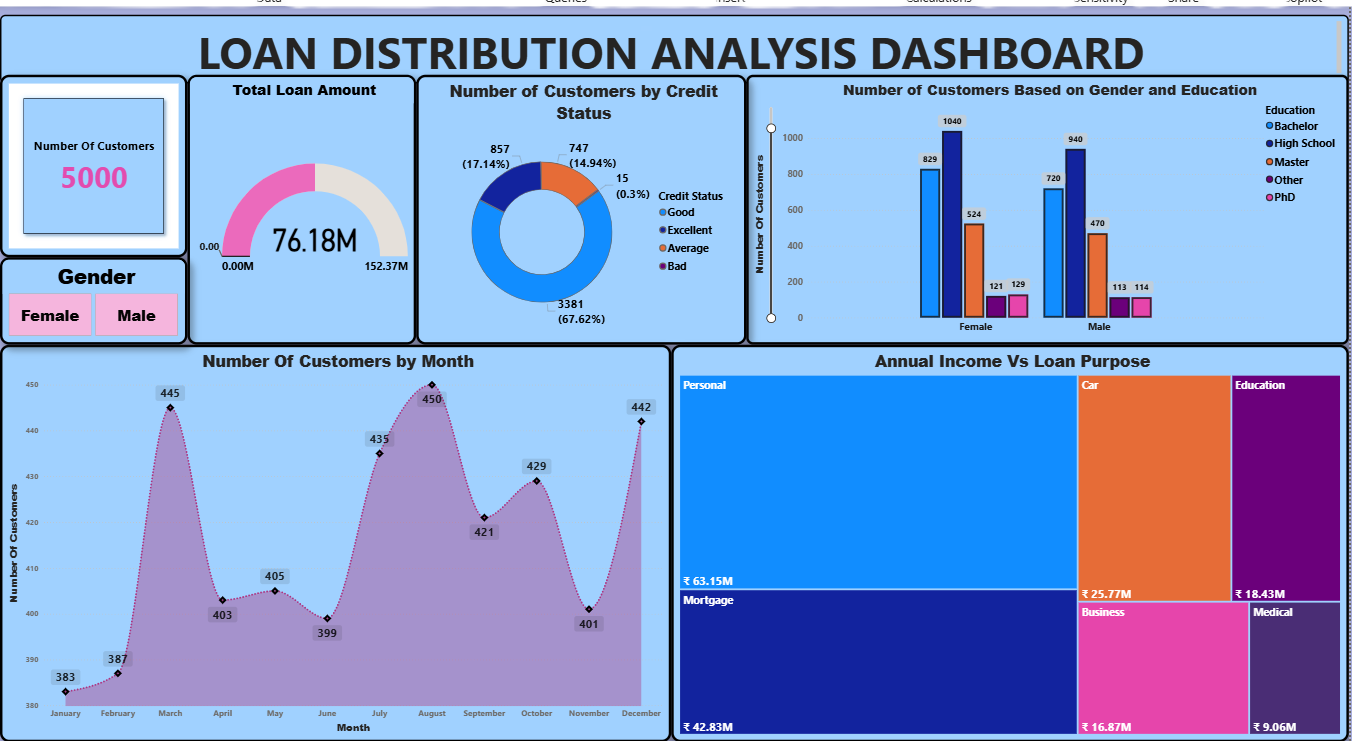

What the dashboard file says about the page in this screenshot:
{"tool":"powerbi","page":{"name":"Dash Board 1","canvas":[2200,1200],"ordinal":7},"visuals":[{"type":"textbox","box":[0,14.3,2199.1,112.1],"z":0},{"type":"cardVisual","fields":{"Data":["finance_loan_default_dataset.Number Of Customers"]},"box":[0,112.1,305.7,297.6],"z":1000},{"type":"gauge","fields":{"Y":["finance_loan_default_dataset.Total Loan Amount"]},"box":[305.7,112.1,373,440.2],"z":2000},{"type":"clusteredColumnChart","title":"Number of Customers Based on Gender and Education","fields":{"Category":["finance_loan_default_dataset.Gender"],"Y":["finance_loan_default_dataset.Number Of Customers"],"Series":["finance_loan_default_dataset.Education"]},"box":[1216.7,112.1,982.3,440.2],"z":3000},{"type":"donutChart","title":"Number of Customers by Credit Status","fields":{"Y":["finance_loan_default_dataset.Number Of Customers"],"Category":["finance_loan_default_dataset.Credit Status"]},"box":[678.7,112.1,538,440.2],"z":4000},{"type":"lineChart","fields":{"Category":["CalendarTable.Date.Variation.Date Hierarchy.Year","CalendarTable.Date.Variation.Date Hierarchy.Quarter","CalendarTable.Date.Variation.Date Hierarchy.Month","CalendarTable.Date.Variation.Date Hierarchy.Day"],"Y":["finance_loan_default_dataset.Number Of Customers"]},"box":[0,552.3,1094.4,648.1],"z":5000},{"type":"treemap","title":"Annual Income Vs Loan Purpose","fields":{"Values":["Sum(finance_loan_default_dataset.Annual Income)"],"Group":["finance_loan_default_dataset.Loan Purpose"]},"box":[1094.4,552.3,1104.6,648.1],"z":6000},{"type":"advancedSlicerVisual","fields":{"Values":["finance_loan_default_dataset.Gender"]},"box":[0,409.6,305.7,142.7],"z":7000}]}

Visuals, with their boxes on the page's 2200x1200 design canvas (x1, y1, x2, y2). These are canvas units, not pixel positions in the 1352x741 screenshot, which may show the page scaled, cropped or inside an application window:
textbox: x1=0 y1=14 x2=2199 y2=126
cardVisual - finance_loan_default_dataset.Number Of Customers: x1=0 y1=112 x2=306 y2=410
gauge - finance_loan_default_dataset.Total Loan Amount: x1=306 y1=112 x2=679 y2=552
"Number of Customers Based on Gender and Education" clusteredColumnChart: x1=1217 y1=112 x2=2199 y2=552
"Number of Customers by Credit Status" donutChart: x1=679 y1=112 x2=1217 y2=552
lineChart - CalendarTable.Date.Variation.Date Hierarchy.Year x CalendarTable.Date.Variation.Date Hierarchy.Quarter: x1=0 y1=552 x2=1094 y2=1200
"Annual Income Vs Loan Purpose" treemap: x1=1094 y1=552 x2=2199 y2=1200
advancedSlicerVisual - finance_loan_default_dataset.Gender: x1=0 y1=410 x2=306 y2=552
